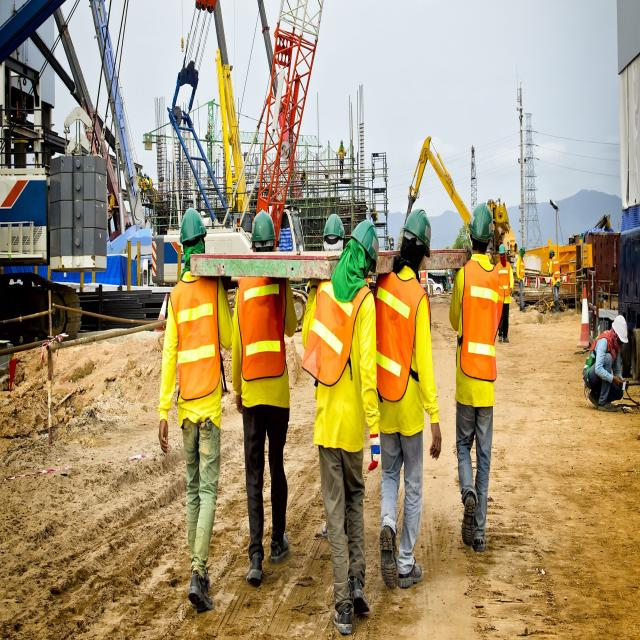helmet: (464, 193, 502, 266), (398, 200, 438, 264), (345, 214, 385, 276), (167, 206, 216, 246), (244, 207, 276, 254), (607, 305, 633, 356), (319, 213, 349, 250)
shoes: (371, 514, 404, 585), (181, 564, 218, 616), (459, 480, 481, 553), (241, 541, 268, 585), (326, 592, 358, 629), (471, 530, 501, 564), (266, 527, 294, 563), (398, 555, 432, 583), (352, 587, 376, 623), (594, 386, 618, 416), (588, 388, 600, 416), (496, 318, 506, 346), (503, 330, 512, 342)
vest: (154, 257, 224, 423), (372, 262, 439, 420), (451, 253, 518, 402), (224, 281, 298, 410), (300, 280, 374, 400), (498, 260, 516, 319), (512, 262, 533, 294), (551, 256, 564, 290)
